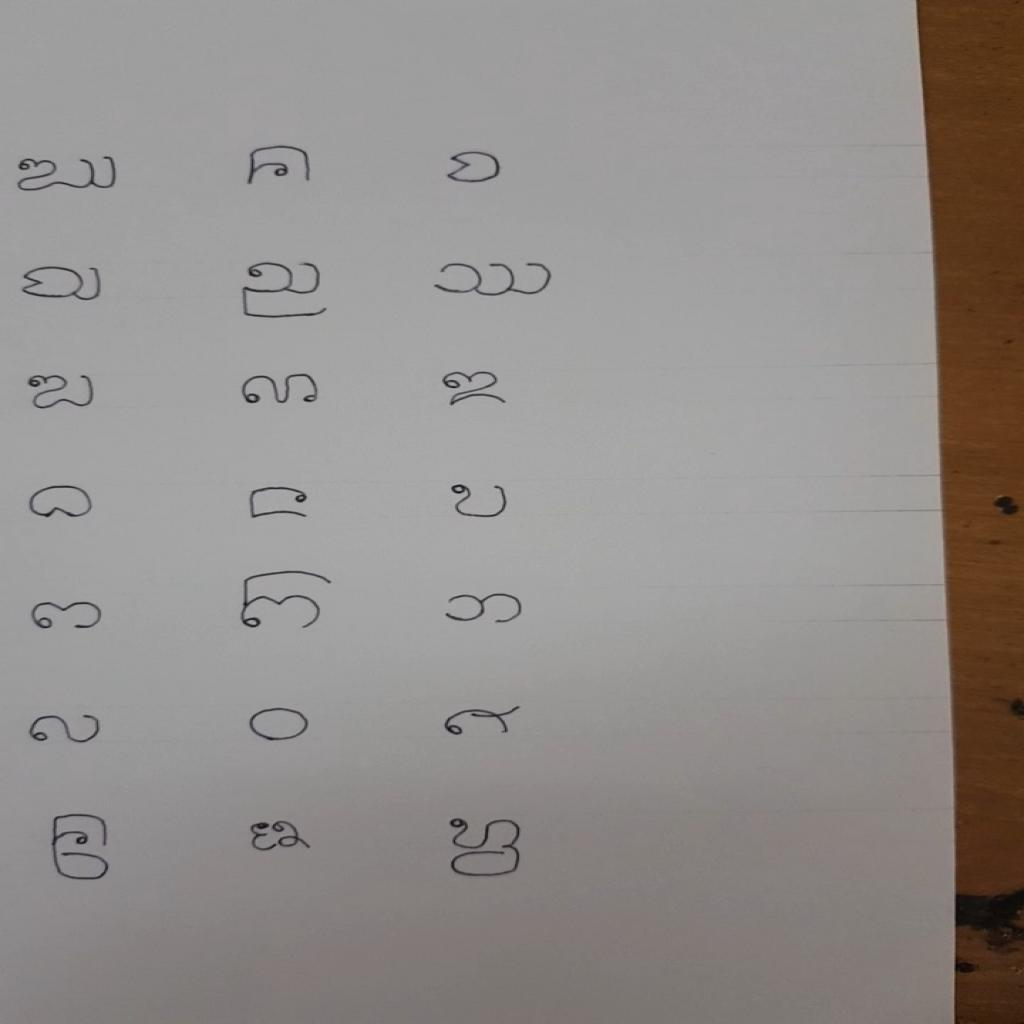LN004: (7, 151, 128, 197)
LN005: (241, 141, 320, 191)
LN006: (442, 149, 510, 187)
LN010: (17, 264, 110, 306)
LN011: (235, 258, 336, 325)
LN012: (428, 257, 560, 301)
LN016: (17, 371, 105, 414)
LN017: (233, 370, 327, 410)
LN018: (437, 368, 514, 412)
LN022: (23, 482, 102, 524)
LN023: (242, 484, 317, 524)
LN024: (441, 479, 517, 526)
LN028: (22, 597, 110, 636)
LN029: (233, 565, 343, 636)
LN030: (438, 589, 533, 631)
LN034: (22, 710, 109, 749)
LN035: (243, 704, 318, 747)
LN036: (438, 701, 530, 742)
LN040: (45, 810, 119, 886)
LN041: (239, 816, 320, 856)
LN042: (440, 814, 532, 883)
